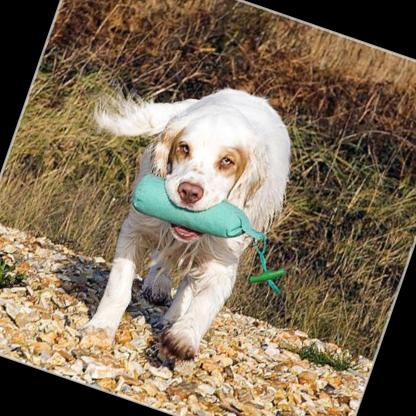clumber: (19, 44, 314, 382)
